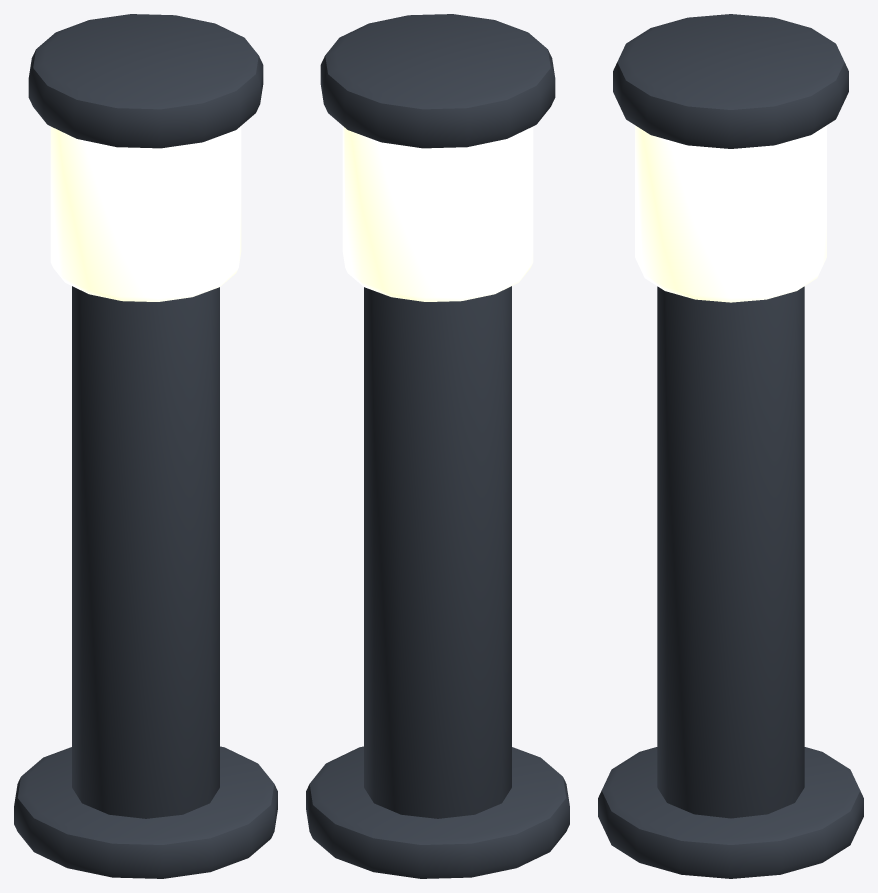
The model's file is balizador_jardim.glb.
The picture shows the model from 3 angles, left to right: view 1: azimuth 30°, elevation 25°; view 2: azimuth 150°, elevation 25°; view 3: azimuth 270°, elevation 25°; orthographic projection.
Parts seen in each view (by area): view 1: balizador_jardim; view 2: balizador_jardim; view 3: balizador_jardim.
Part boxes in pixels (left/top/right/bottom): balizador_jardim: left=14, top=14, right=277, bottom=878; balizador_jardim: left=306, top=14, right=569, bottom=878; balizador_jardim: left=598, top=14, right=863, bottom=878.
Bounding box in the file's own units: 0.18 × 0.575 × 0.18.
Materials: 2 (1 with a texture image).
